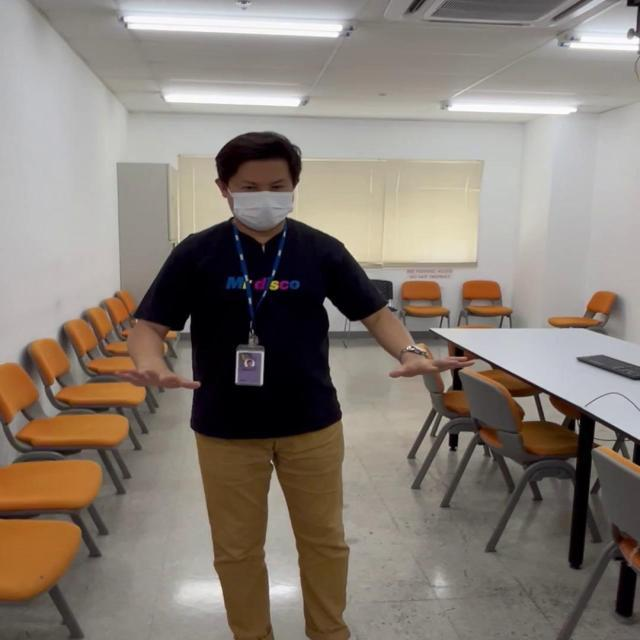bare_hand: (385, 344, 477, 382), (113, 360, 200, 396)
